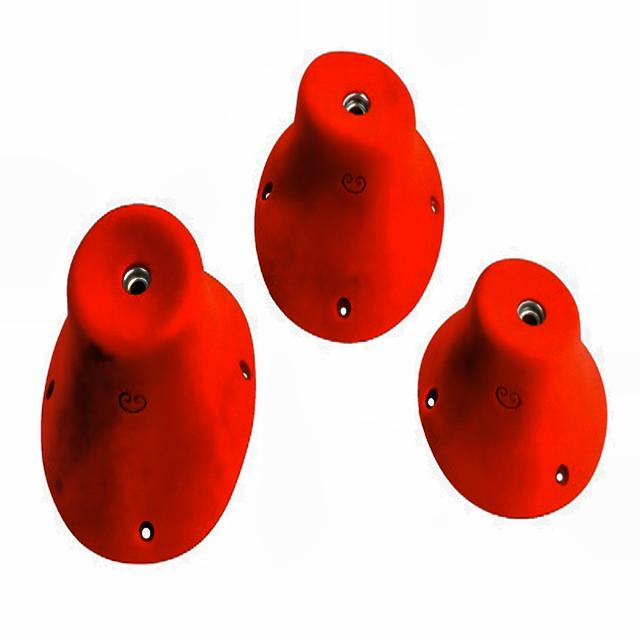Hold: (38, 203, 256, 566), (253, 51, 442, 346), (416, 256, 610, 521)
